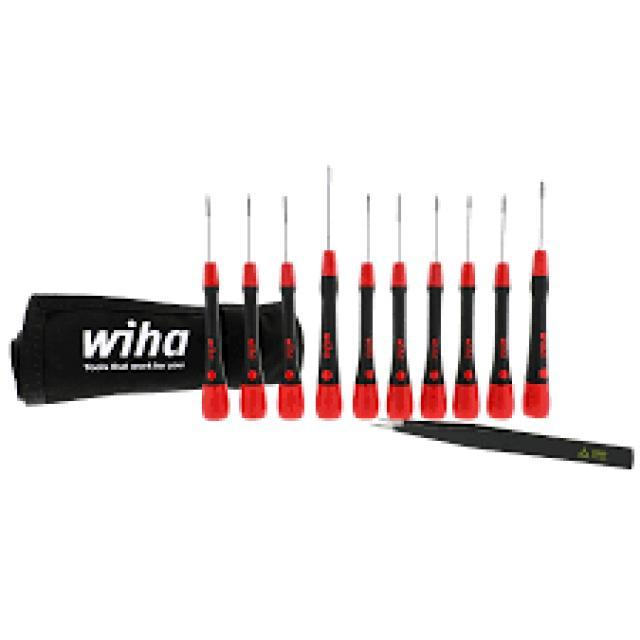screwdriver: (520, 175, 564, 422), (308, 161, 348, 422), (348, 190, 386, 422), (196, 191, 234, 421), (483, 189, 518, 420), (273, 188, 307, 424), (414, 192, 448, 422), (237, 189, 269, 425), (450, 195, 482, 422), (384, 190, 412, 424)
